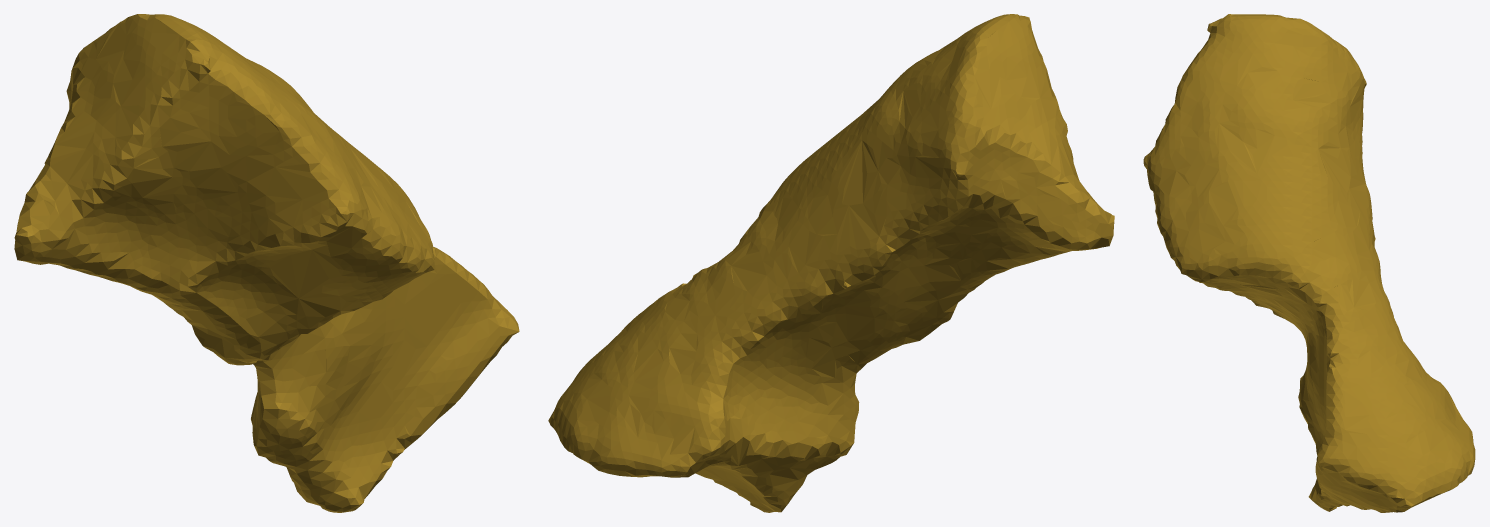
File: Model_73_RH__Area_47_(old_12)_of_cortex__lateral_part_(A47L).obj
3 views of the same model, side by side, from view 1: azimuth 30°, elevation 25°; view 2: azimuth 150°, elevation 25°; view 3: azimuth 270°, elevation 25° (orthographic). The views are drawn at different scales.
Bounding box in the file's own units: 4.91 × 4.84 × 3.49.
